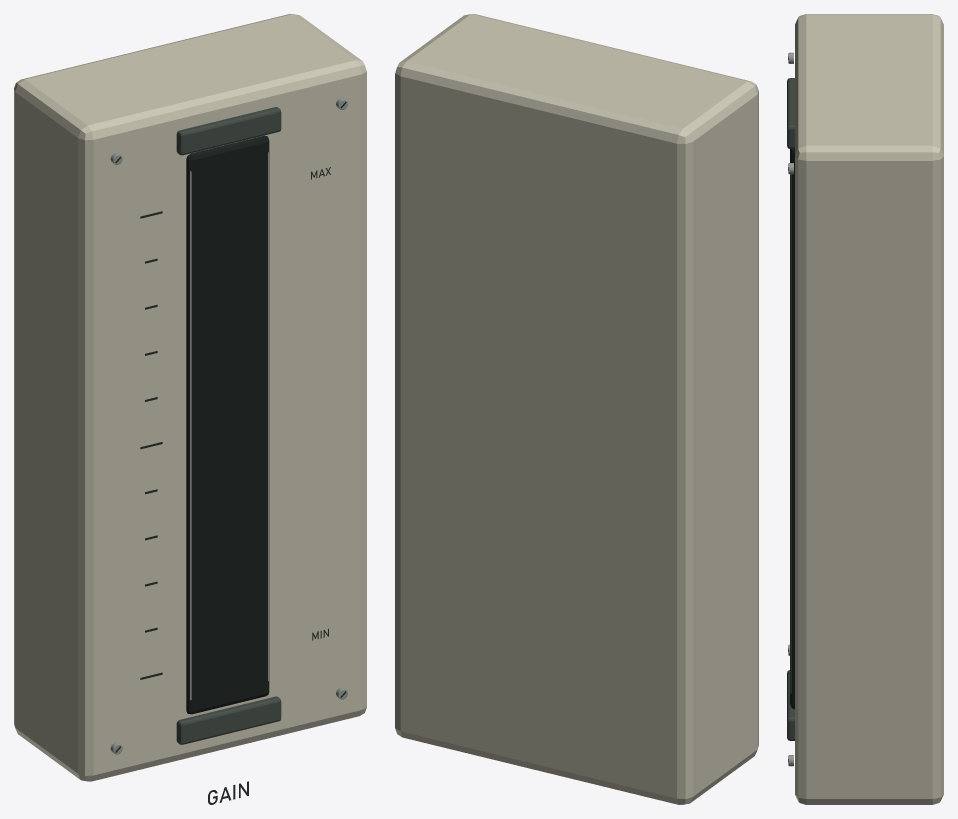
The model's file is GAIN_Housing.fbx.
The picture shows the model from 3 angles, left to right: view 1: azimuth 30°, elevation 25°; view 2: azimuth 150°, elevation 25°; view 3: azimuth 270°, elevation 25°; orthographic projection. The views are drawn at different scales.
Visible parts, largest first — view 1: GAIN_Housing_EXPORT; view 2: GAIN_Housing_EXPORT; view 3: GAIN_Housing_EXPORT.
Boxes of the visible parts, x1=… form: GAIN_Housing_EXPORT: x1=14, y1=14, x2=366, y2=804; GAIN_Housing_EXPORT: x1=395, y1=14, x2=758, y2=804; GAIN_Housing_EXPORT: x1=787, y1=14, x2=943, y2=804.
Size of the model in its own units: 0.235 by 0.5488 by 0.1105.
